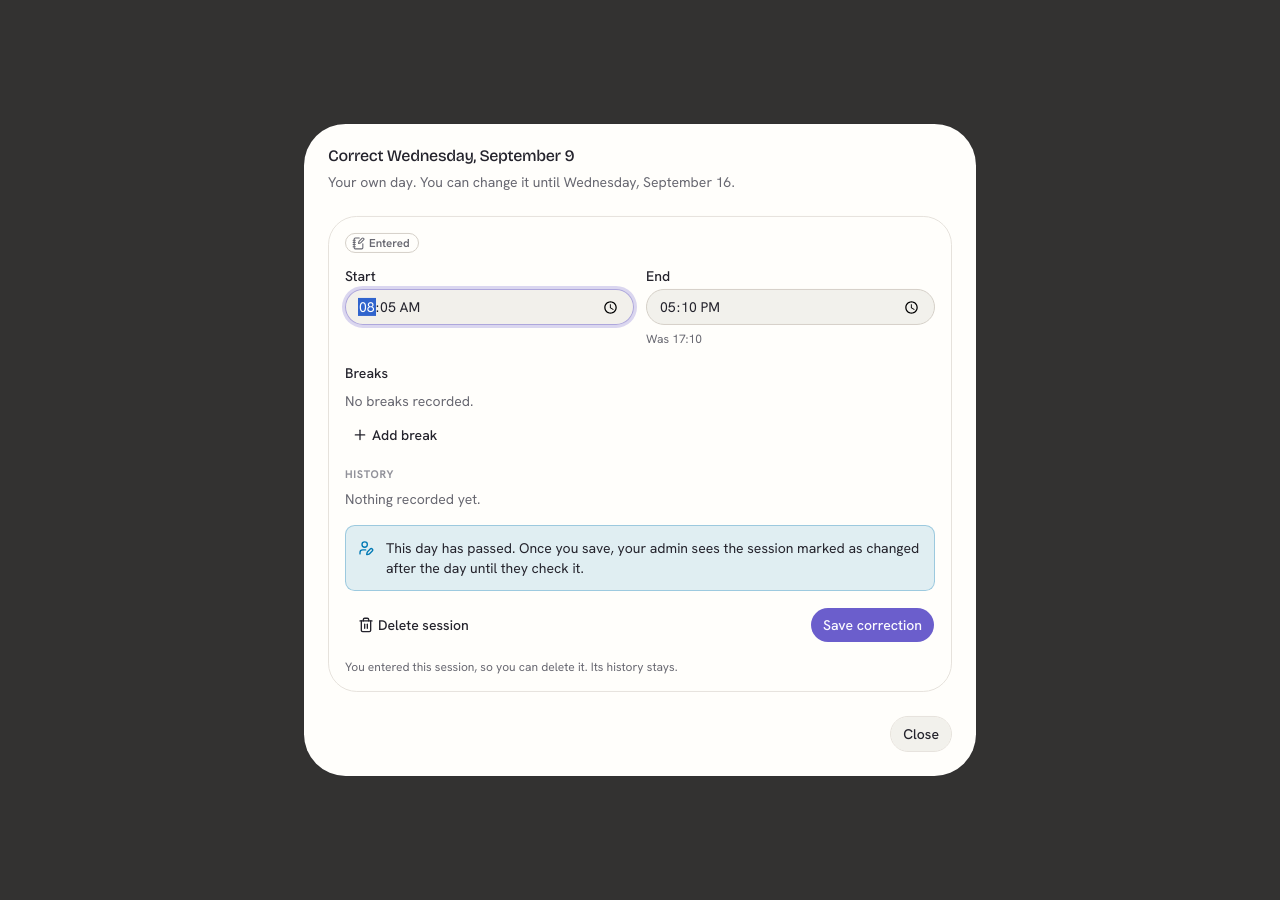
CorrectionDialog › says an admin's entry is theirs to delete when the API refuses the reader
The image size is (1280, 900).
Click the button "Delete session".
click(413, 625)  # box [345,609,482,641]
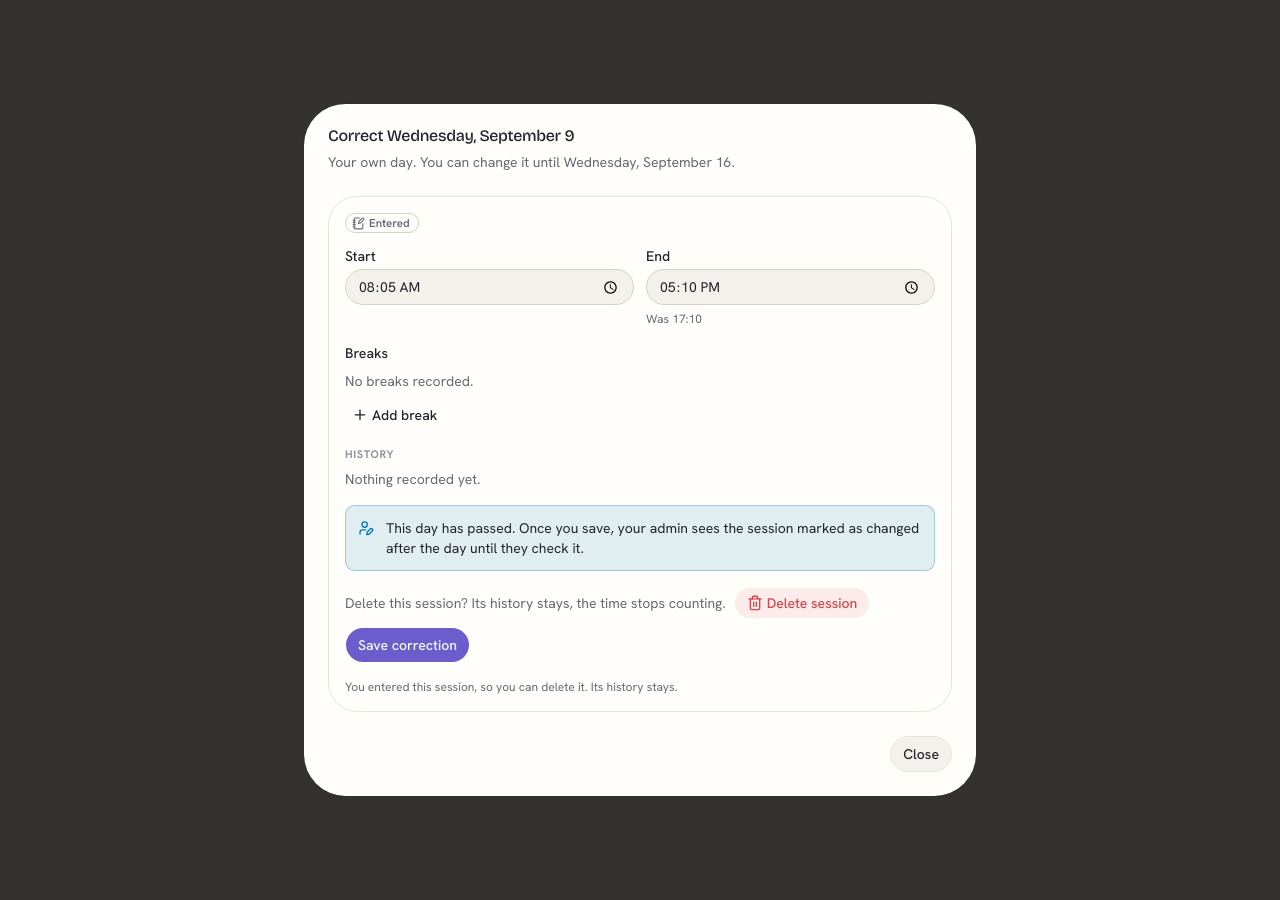
Click the button "Delete session".
click(802, 603)  # box [734,587,870,619]
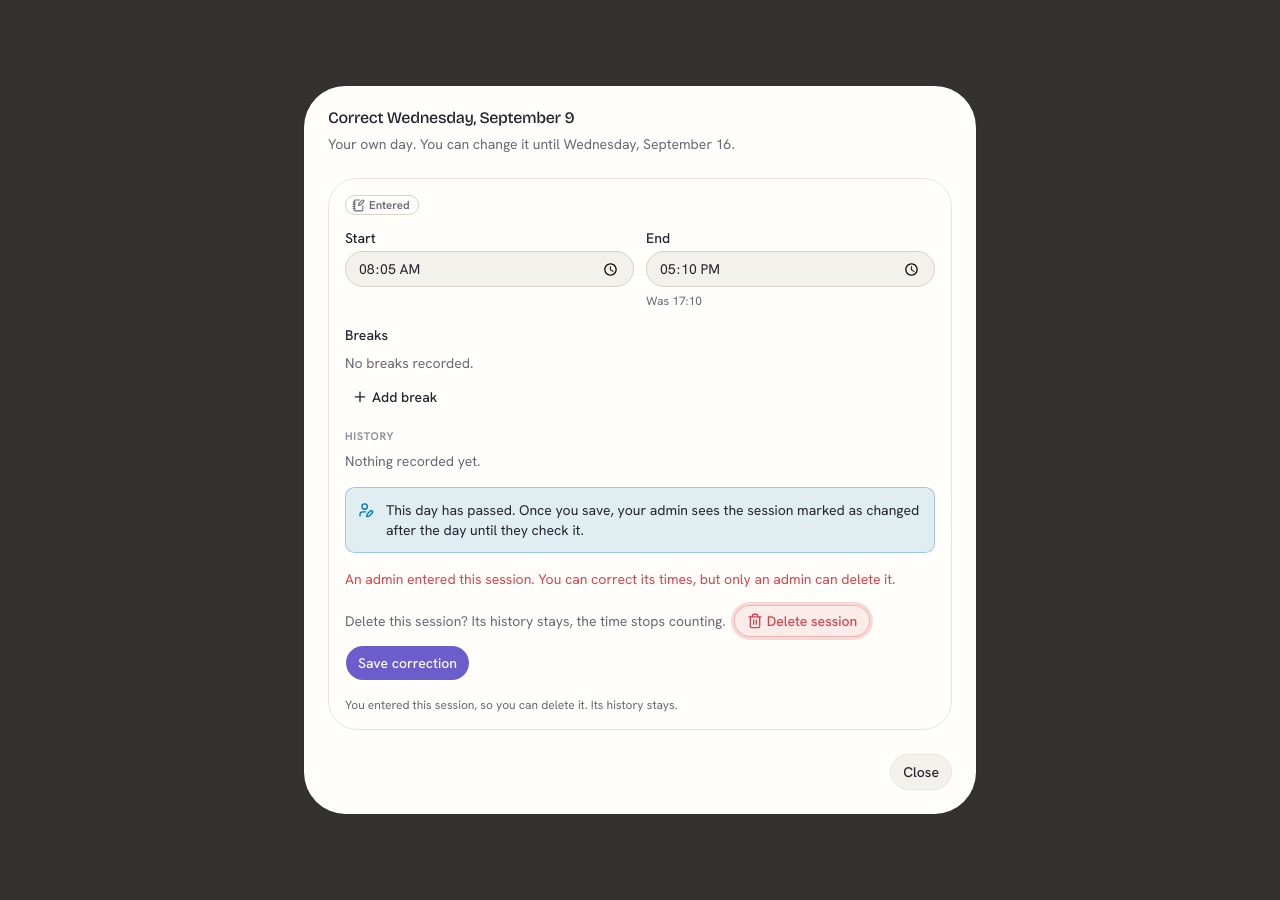
Check: the text "An admin entered this session. You can correct its times, but only an admin can delete it." is shown, box [345,570,896,588]
